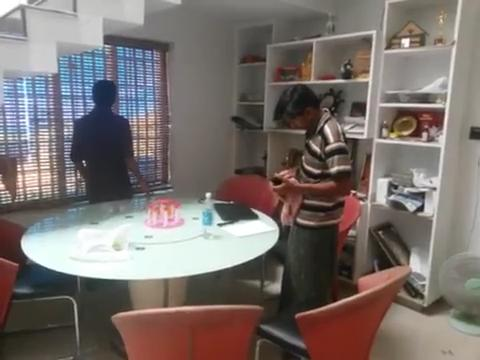chair: (254, 265, 412, 359), (1, 218, 81, 359), (259, 195, 361, 303), (110, 304, 264, 359), (216, 174, 278, 290)
closet_cabinet: (232, 1, 480, 307)
cup_glass_bottle: (144, 197, 184, 228)
floor: (1, 253, 480, 360), (1, 1, 181, 106)
paper_notebook: (213, 203, 276, 237)
person: (271, 83, 352, 316), (70, 80, 148, 203)
table_desk: (19, 195, 280, 359)
towel_s: (269, 167, 303, 225)
window: (1, 43, 165, 205)
